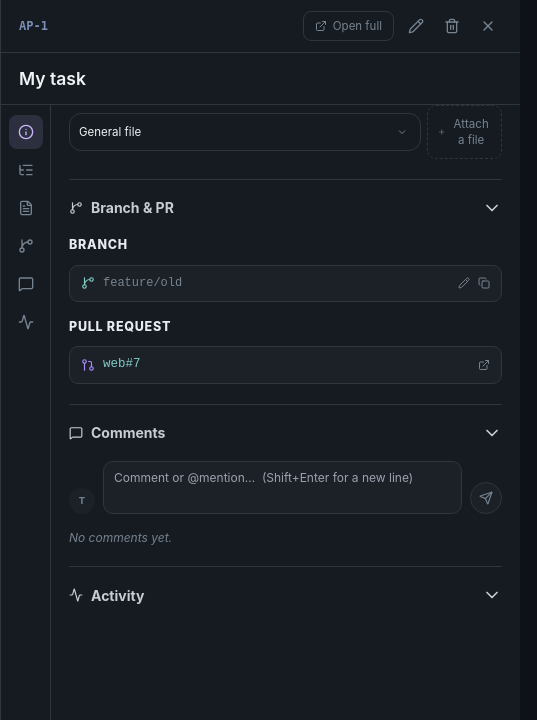
Test: TaskDetailPanel — drafts survive collapsing a section › keeps a half-written comment when Comments is collapsed and reopened
The width and height of the screenshot is (537, 720).
(page scrolled)
Type "half-written" into the text box with placeholder "Comment or @mention… (Shift+Enter for a new line)".
click(282, 487); type("half-written")  # box [114, 468, 451, 507]
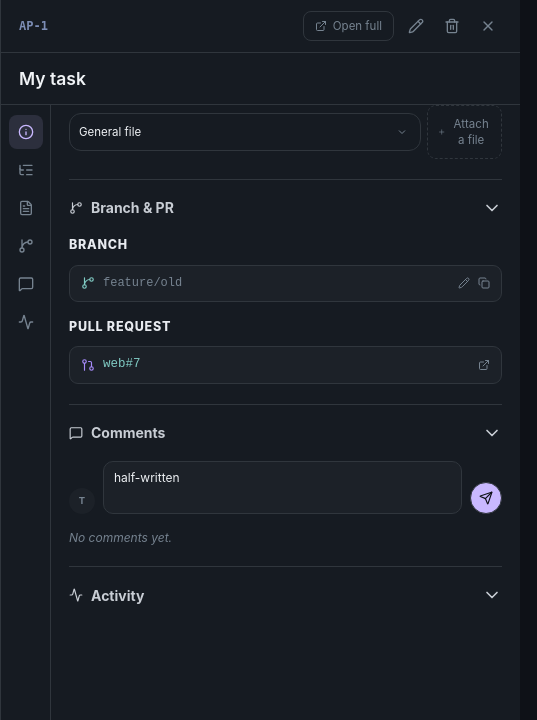
Click the button "Comments".
click(128, 432)  # box [69, 416, 502, 448]
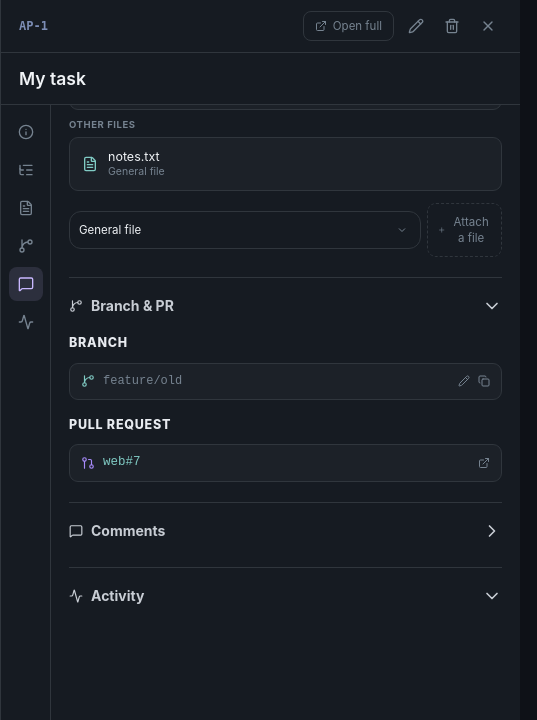
Expected: the field with placeholder "Comment or @mention" is not shown
Click the button "Comments".
click(128, 530)  # box [69, 514, 502, 546]
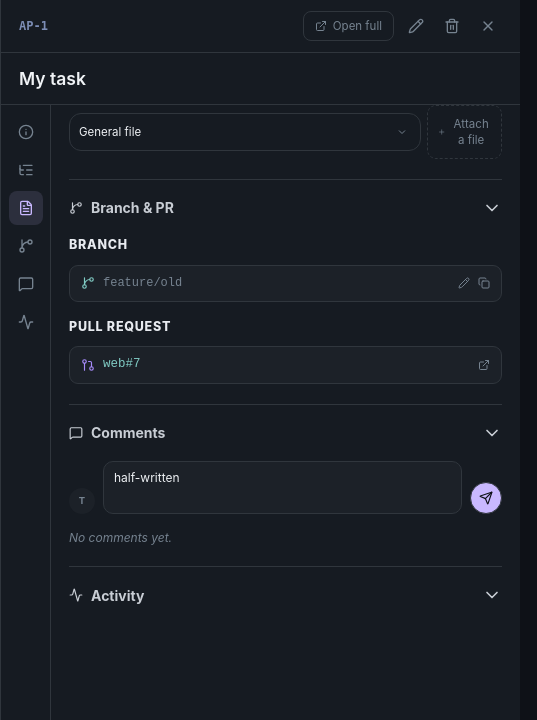
Expected: the text box with placeholder "Comment or @mention… (Shift+Enter for a new line)" holds "half-written", [114, 468, 451, 506]
